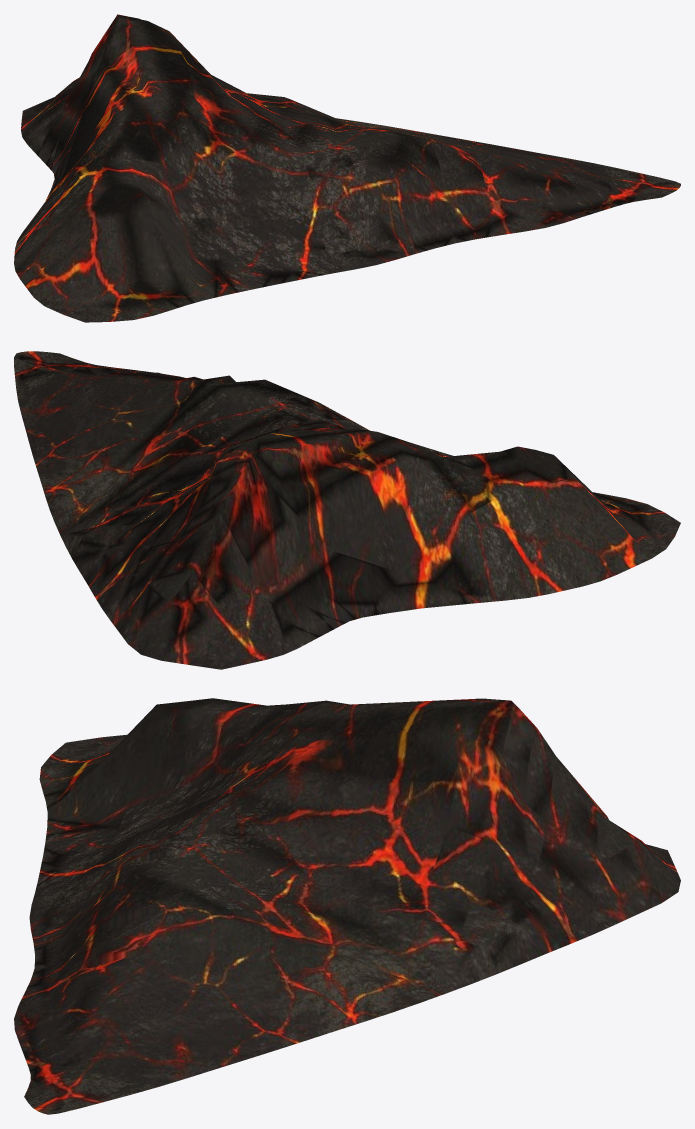
Rendered from montana_lava.obj.
3 views of the same model, one above another, from view 1: azimuth 30°, elevation 25°; view 2: azimuth 150°, elevation 25°; view 3: azimuth 270°, elevation 25° (orthographic). The views are drawn at different scales.
Parts seen in each view (by area): view 1: mountain; view 2: mountain; view 3: mountain.
Boxes of the visible parts, bbox=[...] form: mountain: bbox=[14, 14, 680, 322]; mountain: bbox=[14, 351, 680, 669]; mountain: bbox=[14, 698, 680, 1114].
Bounding box in the file's own units: 34.13 × 7.23 × 25.26.
